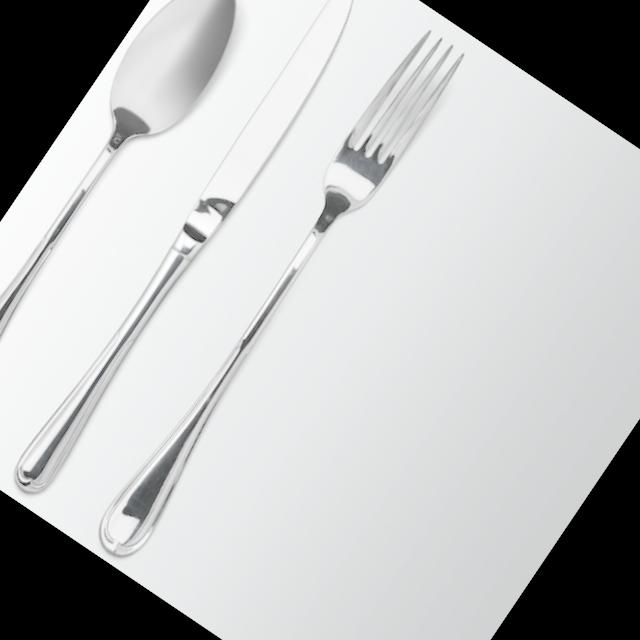fork: (76, 19, 480, 572)
